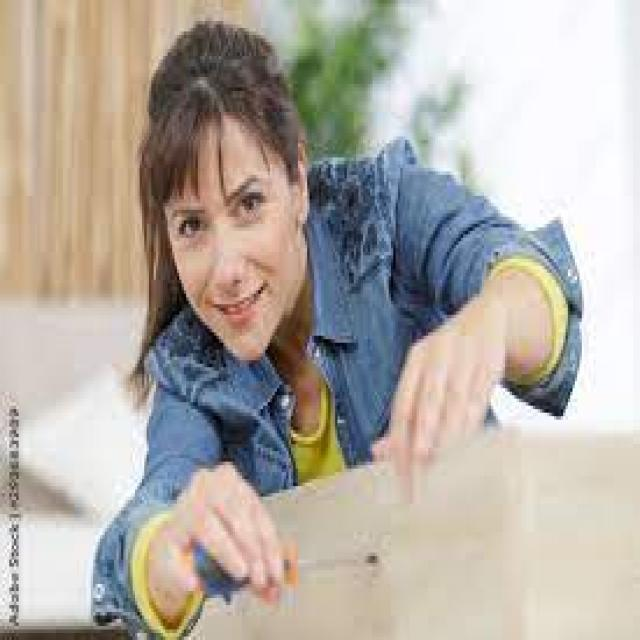screwdriver: (191, 532, 386, 598)
